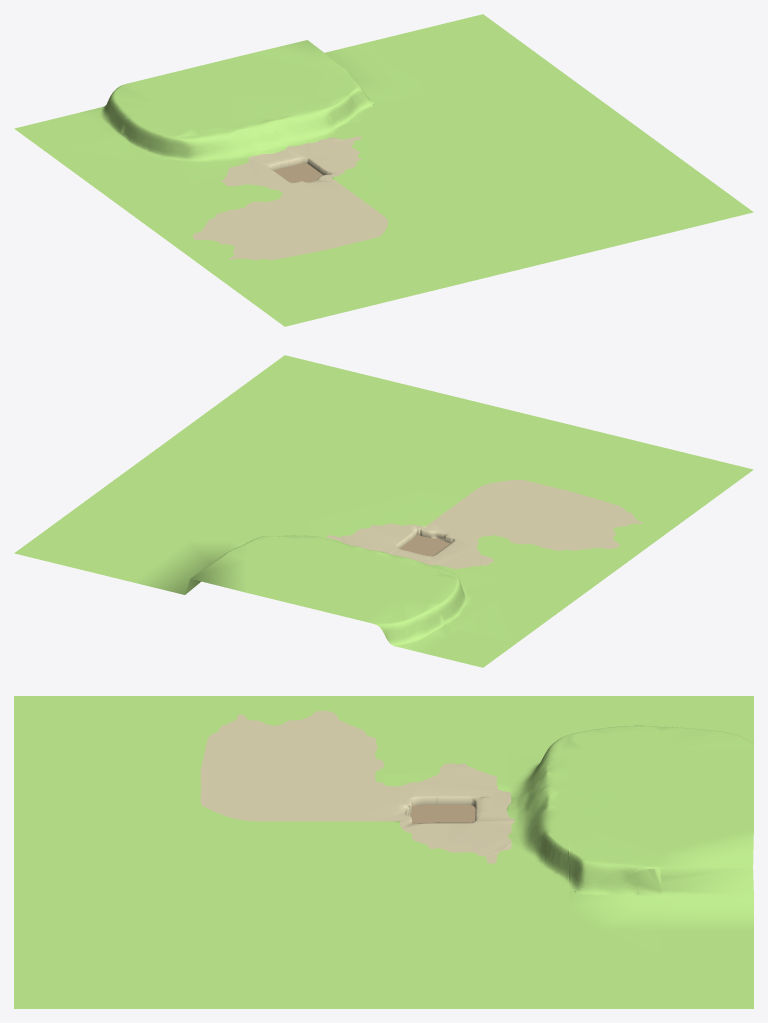
Rendered from landscape.fbx.
3 views of the same model, one above another, from view 1: azimuth 30°, elevation 25°; view 2: azimuth 150°, elevation 25°; view 3: azimuth 270°, elevation 25° (orthographic). The views are drawn at different scales.
Visible parts, largest first — view 1: Landscape, Sand, Ground; view 2: Landscape, Sand, Ground; view 3: Landscape, Sand, Ground.
Boxes of the visible parts, box(x1,y1,x2,y2) form: Landscape: box(14, 14, 753, 326); Sand: box(192, 136, 388, 259); Ground: box(274, 163, 323, 182); Landscape: box(14, 355, 753, 667); Sand: box(327, 479, 643, 568); Ground: box(400, 535, 450, 555); Landscape: box(14, 696, 753, 1008); Sand: box(200, 710, 514, 863); Ground: box(410, 805, 525, 823).
Bounding box in the file's own units: 20160 × 1034 × 20161.
